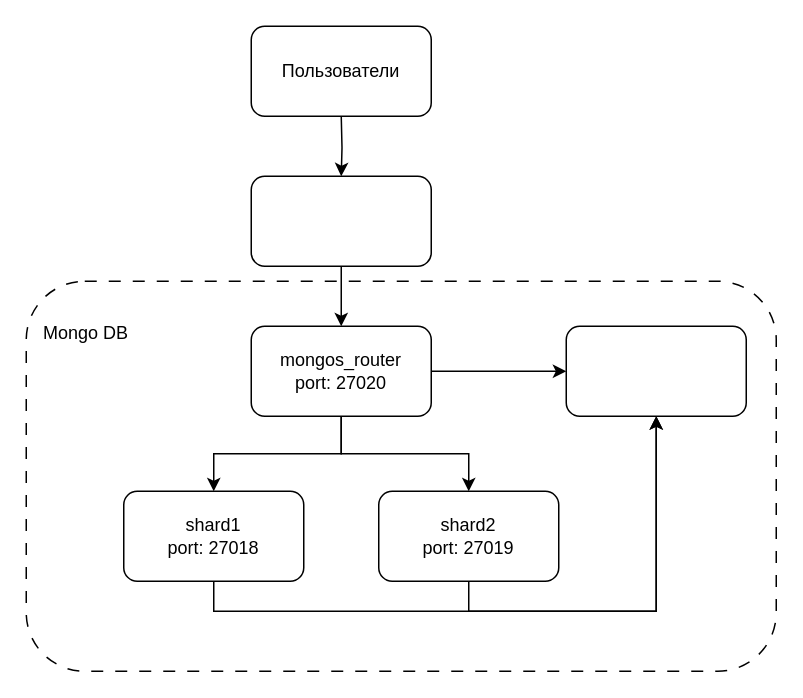
Image size: 803x698. Some labels were removed from this diagram. The box of each missing label's shape, as (x1, y1, x2, y2) in pixels:
configSrv port: 27017: (565, 325, 746, 416)
pymongo-api: (250, 175, 431, 266)
